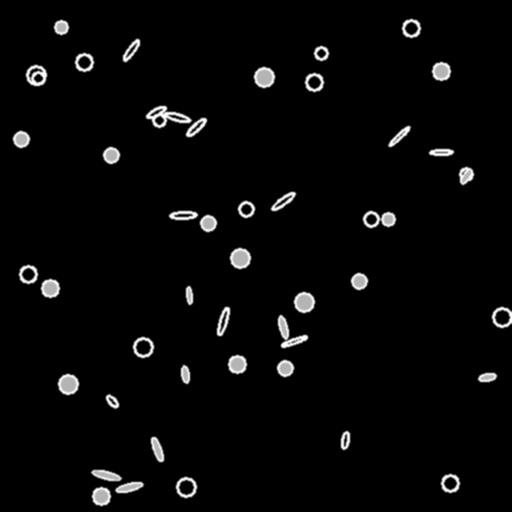pseudomonas: (387, 125, 411, 147), (185, 116, 207, 138), (121, 38, 141, 62), (271, 191, 295, 211), (163, 110, 191, 124), (216, 307, 230, 335), (92, 468, 120, 482), (280, 334, 308, 348), (150, 436, 164, 462), (116, 480, 142, 494), (458, 167, 474, 185), (277, 315, 289, 339), (146, 105, 166, 119), (104, 393, 120, 409), (170, 211, 196, 219), (340, 431, 350, 449), (180, 365, 190, 383), (479, 372, 495, 382), (430, 149, 452, 155), (185, 287, 193, 303)
synechocystis: (177, 478, 195, 496), (493, 308, 511, 326), (255, 68, 273, 86), (231, 249, 249, 267), (59, 375, 77, 393), (134, 338, 152, 356), (295, 293, 313, 311), (27, 66, 45, 84), (229, 356, 245, 372), (442, 475, 458, 491), (93, 488, 109, 504), (20, 266, 36, 282), (42, 280, 58, 296), (76, 54, 92, 70), (403, 20, 419, 36), (433, 63, 449, 79), (306, 74, 322, 90), (201, 216, 215, 230), (239, 202, 253, 216), (104, 148, 118, 162), (364, 212, 378, 226), (14, 132, 28, 146), (352, 274, 366, 288), (278, 361, 292, 375), (32, 72, 44, 84), (153, 114, 165, 126), (460, 168, 472, 180), (55, 21, 67, 33), (315, 47, 327, 59), (382, 213, 394, 225)
